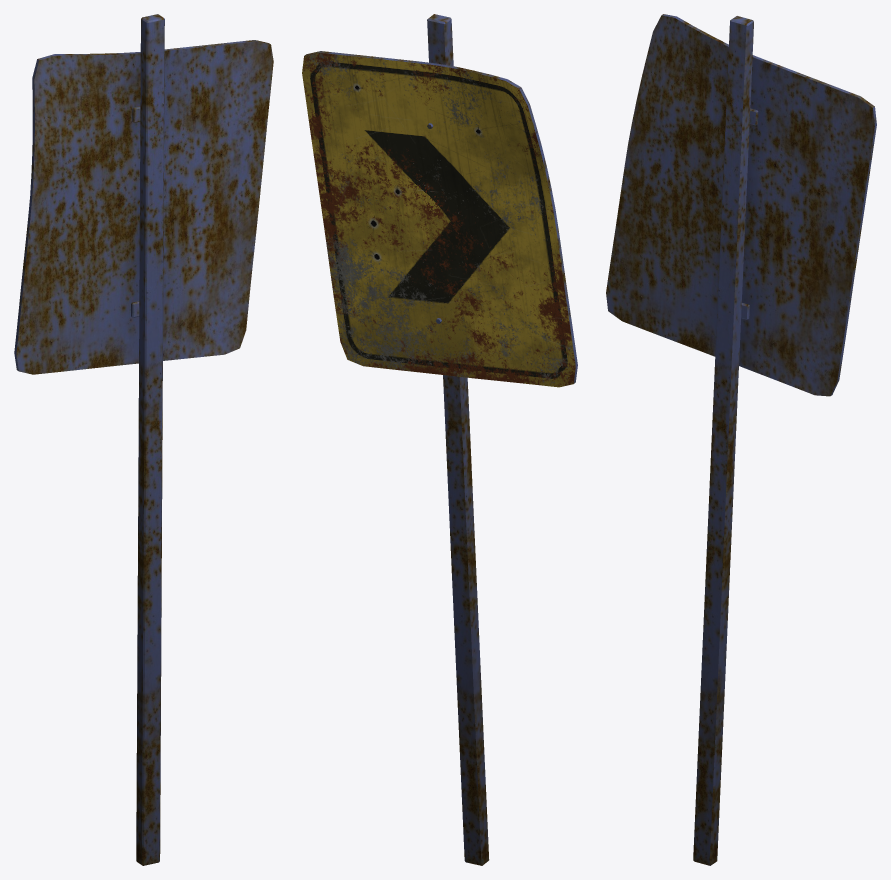
File: sign_warning.glb
The picture shows the model from 3 angles, left to right: view 1: azimuth 30°, elevation 25°; view 2: azimuth 150°, elevation 25°; view 3: azimuth 330°, elevation 25°; orthographic projection. The views are drawn at different scales.
Parts seen in each view (by area): view 1: sign_warning_galvanized; view 2: sign_warning_sign_warning, sign_warning_galvanized; view 3: sign_warning_galvanized.
Boxes of the visible parts, bbox=[...] form: sign_warning_galvanized: bbox=[14, 14, 273, 865]; sign_warning_sign_warning: bbox=[302, 52, 575, 387]; sign_warning_galvanized: bbox=[304, 14, 577, 865]; sign_warning_galvanized: bbox=[606, 14, 876, 865].
Size of the model in its own units: 0.8598 by 2.6 by 0.2182.
2 materials, 2 textured.
